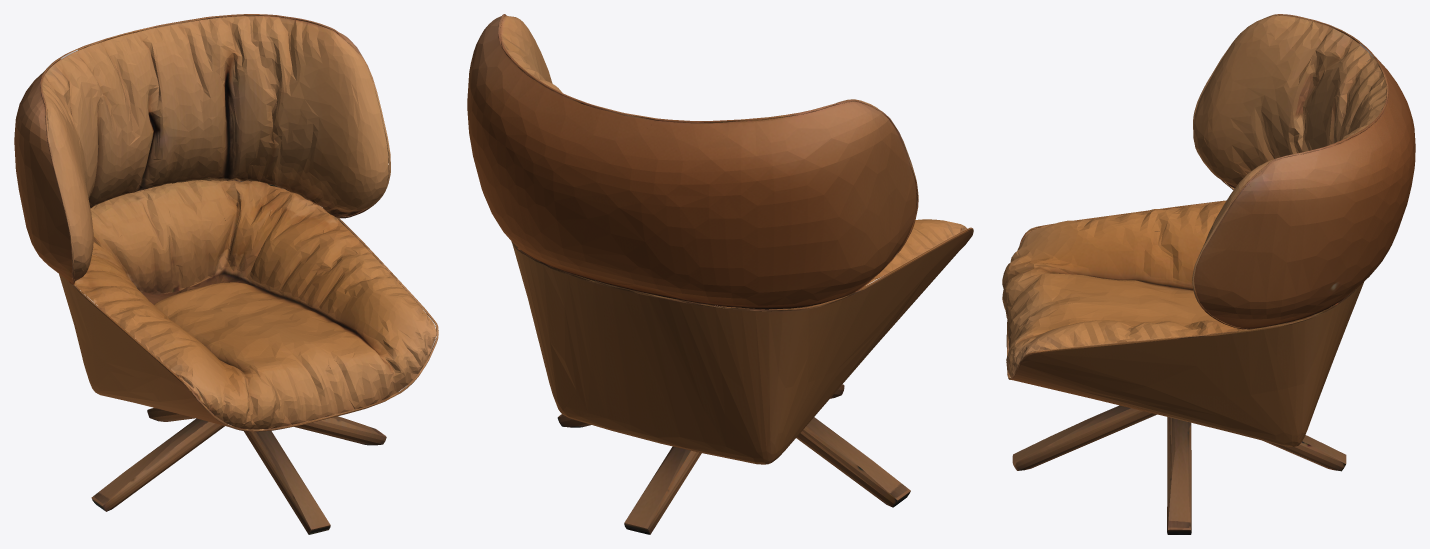
The model's file is edited_mesh.glb.
3 renders of one model, left to right at view 1: azimuth 30°, elevation 25°; view 2: azimuth 150°, elevation 25°; view 3: azimuth 270°, elevation 25°, orthographic. The views are drawn at different scales.
Visible parts, largest first — view 1: solid_001_wire; view 2: solid_001_wire; view 3: solid_001_wire.
Part boxes in pixels (x1,y1,x2,y2): solid_001_wire: (14, 14, 438, 534); solid_001_wire: (467, 14, 973, 534); solid_001_wire: (1002, 14, 1415, 534).
Bounding box in the file's own units: 1.24 × 1.34 × 1.31.
1 material, 1 textured.
